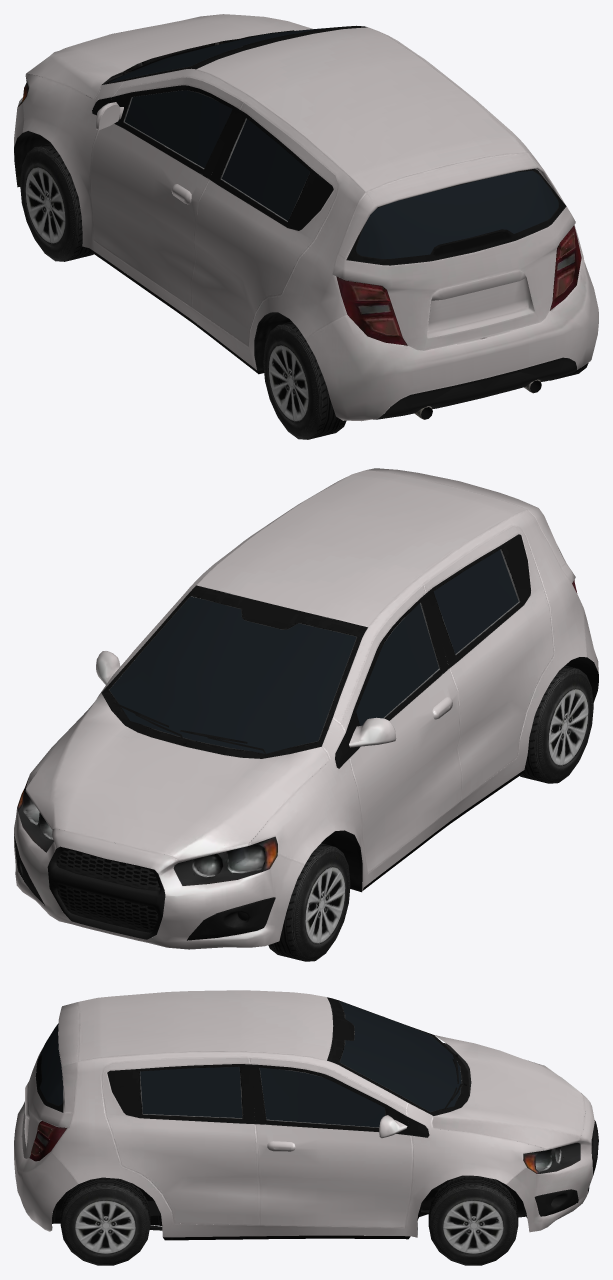
File: hatchback.glb
3 views of the same model, one above another, from view 1: azimuth 30°, elevation 25°; view 2: azimuth 150°, elevation 25°; view 3: azimuth 270°, elevation 25° (orthographic). The views are drawn at different scales.
Parts seen in each view (by area): view 1: carroceria_pintura, carroceria_vidrio, carroceria_textura, rueda_tras_izq_textura, rueda_del_izq_textura, carroceria_stop; view 2: carroceria_pintura, carroceria_vidrio, carroceria_textura, rueda_del_izq_textura, rueda_tras_izq_textura, carroceria_faro; view 3: carroceria_pintura, carroceria_vidrio, carroceria_textura, rueda_del_der_textura, rueda_tras_der_textura, carroceria_faro.
Boxes of the visible parts, x1,y1,x2,y2 form: carroceria_pintura: (14,14,598,421); carroceria_vidrio: (110,27,558,258); carroceria_textura: (14,25,581,419); rueda_tras_izq_textura: (263,321,346,439); rueda_del_izq_textura: (20,143,93,261); carroceria_stop: (353,232,575,329); carroceria_pintura: (14,468,598,949); carroceria_vidrio: (109,550,518,753); carroceria_textura: (14,534,598,940); rueda_del_izq_textura: (268,843,350,961); rueda_tras_izq_textura: (520,665,593,783); carroceria_faro: (17,778,277,885); carroceria_pintura: (14,990,594,1237); carroceria_vidrio: (39,1001,461,1127); carroceria_textura: (29,997,598,1240); rueda_del_der_textura: (428,1175,518,1265); rueda_tras_der_textura: (60,1177,150,1265); carroceria_faro: (523,1143,580,1173).
Size of the model in its own units: 1.79 by 1.5 by 4.
Materials: 6 (4 with a texture image).
